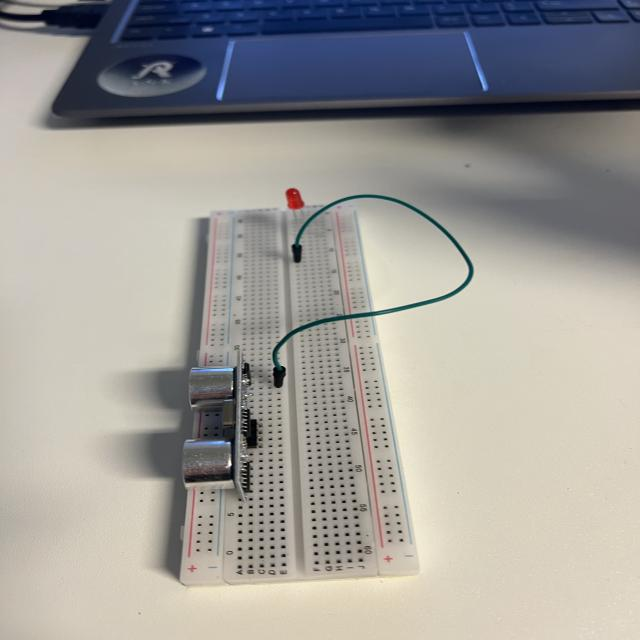BreadBoard: (178, 197, 425, 576)
REDLed: (275, 182, 316, 228)
UltrasoneSensor: (174, 361, 265, 508)
